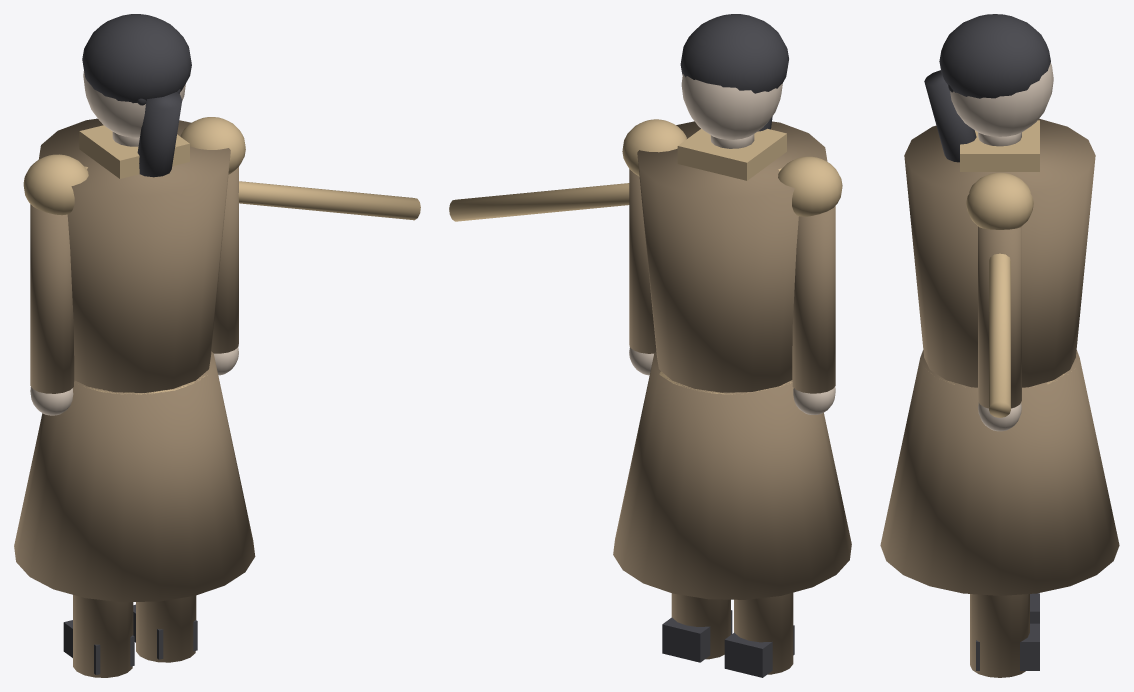
File: baili-shenji.glb
The picture shows the model from 3 angles, left to right: view 1: azimuth 30°, elevation 25°; view 2: azimuth 150°, elevation 25°; view 3: azimuth 270°, elevation 25°; orthographic projection.
Parts seen in each view (by area): view 1: baili-shenji_robe, baili-shenji_torso, baili-shenji_hair, baili-shenji_arm-0.235, baili-shenji_leg-0.09, baili-shenji_barrel, baili-shenji_arm0.235, baili-shenji_leg0.09, baili-shenji_shoulder-0.22, baili-shenji_pigtail, baili-shenji_collar, baili-shenji_shoulder0.22 (+3 smaller); view 2: baili-shenji_robe, baili-shenji_torso, baili-shenji_arm-0.235, baili-shenji_hair, baili-shenji_head, baili-shenji_barrel, baili-shenji_collar, baili-shenji_arm0.235, baili-shenji_leg-0.09, baili-shenji_shoulder-0.22, baili-shenji_leg0.09, baili-shenji_shoulder0.22 (+3 smaller); view 3: baili-shenji_robe, baili-shenji_torso, baili-shenji_hair, baili-shenji_arm0.235, baili-shenji_leg0.09, baili-shenji_head, baili-shenji_barrel, baili-shenji_shoulder0.22, baili-shenji_collar, baili-shenji_pigtail, baili-shenji_boot0.09, baili-shenji_hand0.235 (+1 smaller).
Part boxes in pixels (x1,y1,x2,y2): baili-shenji_robe: (14, 351, 255, 602); baili-shenji_torso: (38, 118, 230, 392); baili-shenji_hair: (82, 14, 191, 103); baili-shenji_arm-0.235: (30, 204, 74, 393); baili-shenji_leg-0.09: (73, 595, 133, 677); baili-shenji_barrel: (84, 166, 420, 220); baili-shenji_arm0.235: (211, 167, 238, 353); baili-shenji_leg0.09: (136, 595, 196, 662); baili-shenji_shoulder-0.22: (23, 154, 88, 215); baili-shenji_pigtail: (137, 92, 182, 177); baili-shenji_collar: (79, 125, 189, 178); baili-shenji_shoulder0.22: (180, 117, 245, 174); baili-shenji_robe: (613, 352, 851, 599); baili-shenji_torso: (637, 121, 827, 392); baili-shenji_arm-0.235: (792, 206, 835, 393); baili-shenji_hair: (680, 14, 788, 93); baili-shenji_head: (681, 74, 782, 139); baili-shenji_barrel: (449, 168, 781, 221); baili-shenji_collar: (677, 128, 786, 180); baili-shenji_arm0.235: (629, 169, 656, 353); baili-shenji_leg-0.09: (734, 592, 793, 674); baili-shenji_shoulder-0.22: (778, 156, 842, 216); baili-shenji_leg0.09: (671, 593, 730, 659); baili-shenji_shoulder0.22: (622, 119, 686, 176); baili-shenji_robe: (880, 350, 1119, 595); baili-shenji_torso: (904, 118, 1095, 387); baili-shenji_hair: (939, 14, 1050, 98); baili-shenji_arm0.235: (978, 226, 1021, 408); baili-shenji_leg0.09: (970, 594, 1029, 677); baili-shenji_head: (950, 63, 1053, 136); baili-shenji_barrel: (989, 253, 1010, 417); baili-shenji_shoulder0.22: (966, 172, 1033, 229); baili-shenji_collar: (960, 120, 1039, 171); baili-shenji_pigtail: (924, 70, 976, 162); baili-shenji_boot0.09: (976, 623, 1039, 670); baili-shenji_hand0.235: (978, 402, 1021, 431).
Size of the model in its own units: 1.11 by 1.74 by 0.6.
